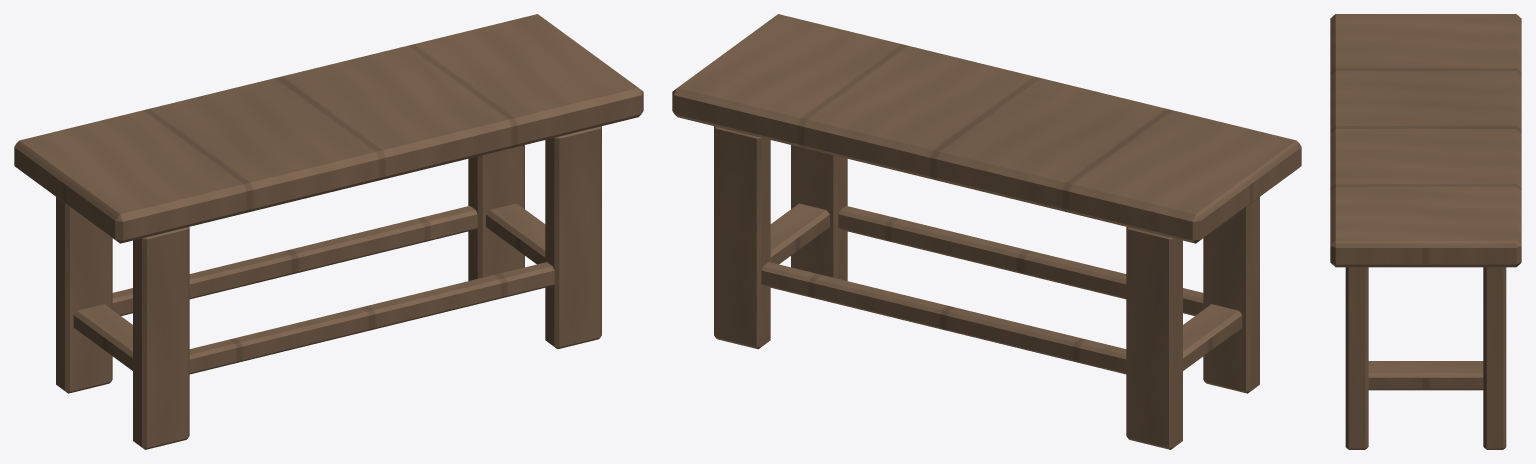
The model's file is WarrensC_WVC045_PreparationBench_Mars_SM.fbx.
3 renders of one model, left to right at view 1: azimuth 30°, elevation 25°; view 2: azimuth 150°, elevation 25°; view 3: azimuth 270°, elevation 25°, orthographic. The views are drawn at different scales.
Parts seen in each view (by area): view 1: WarrensC_WVC045_PreparationBench_Mars_SM.001; view 2: WarrensC_WVC045_PreparationBench_Mars_SM.001; view 3: WarrensC_WVC045_PreparationBench_Mars_SM.001.
Part boxes in pixels (bbox=[...]): WarrensC_WVC045_PreparationBench_Mars_SM.001: bbox=[14, 14, 643, 449]; WarrensC_WVC045_PreparationBench_Mars_SM.001: bbox=[672, 14, 1301, 449]; WarrensC_WVC045_PreparationBench_Mars_SM.001: bbox=[1330, 14, 1521, 449].
Bounding box in the file's own units: 200 × 70 × 90.
